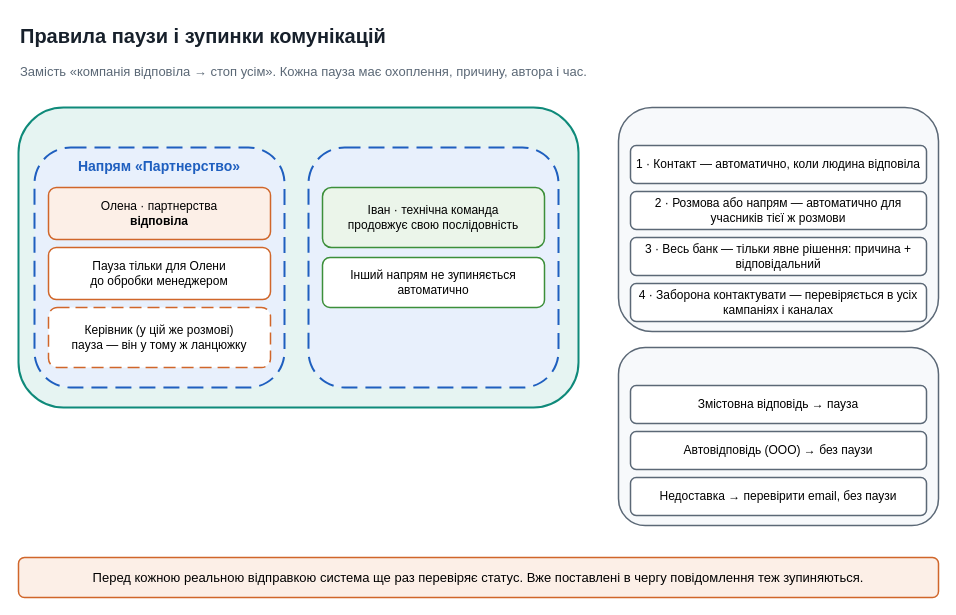
Some shapes in this 956 by 615 pixel diagram are drawn without their labels. Each missing label, with the box of its shape:
Банк: (17, 106, 579, 408)
Напрям «Інтеграція»: (307, 146, 559, 388)
Події — різні: (617, 346, 939, 526)
Рівні охоплення: (617, 106, 939, 332)
